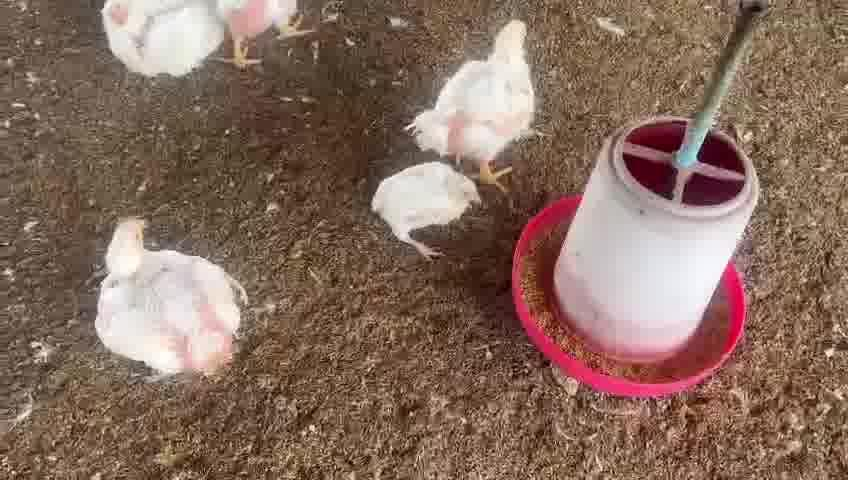AbNormal: (97, 215, 245, 383), (374, 163, 478, 255), (98, 2, 217, 74)
Normal: (408, 16, 533, 180), (215, 3, 310, 68)
